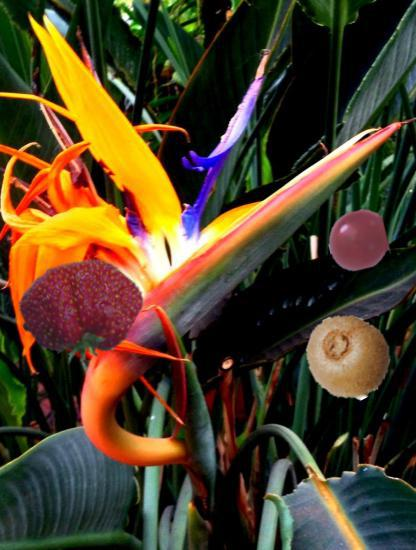Kiwi: (305, 312, 394, 401)
Redcurrant: (328, 210, 389, 271)
Strawberry: (22, 248, 146, 372)
